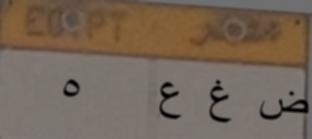5: (57, 72, 84, 105)
ain: (154, 76, 184, 130)
daad: (252, 83, 308, 127)
ghayn: (205, 73, 234, 132)
